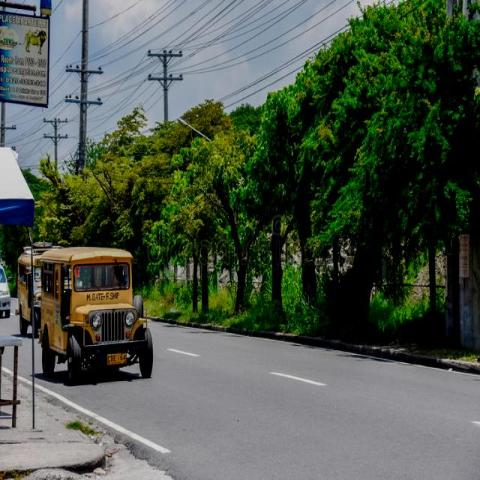jeepney: (40, 253, 157, 385), (12, 244, 66, 343)
